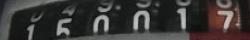digits: (170, 2, 199, 33), (53, 8, 78, 38), (132, 11, 150, 30), (215, 10, 234, 28), (92, 14, 109, 32), (26, 24, 35, 39)
